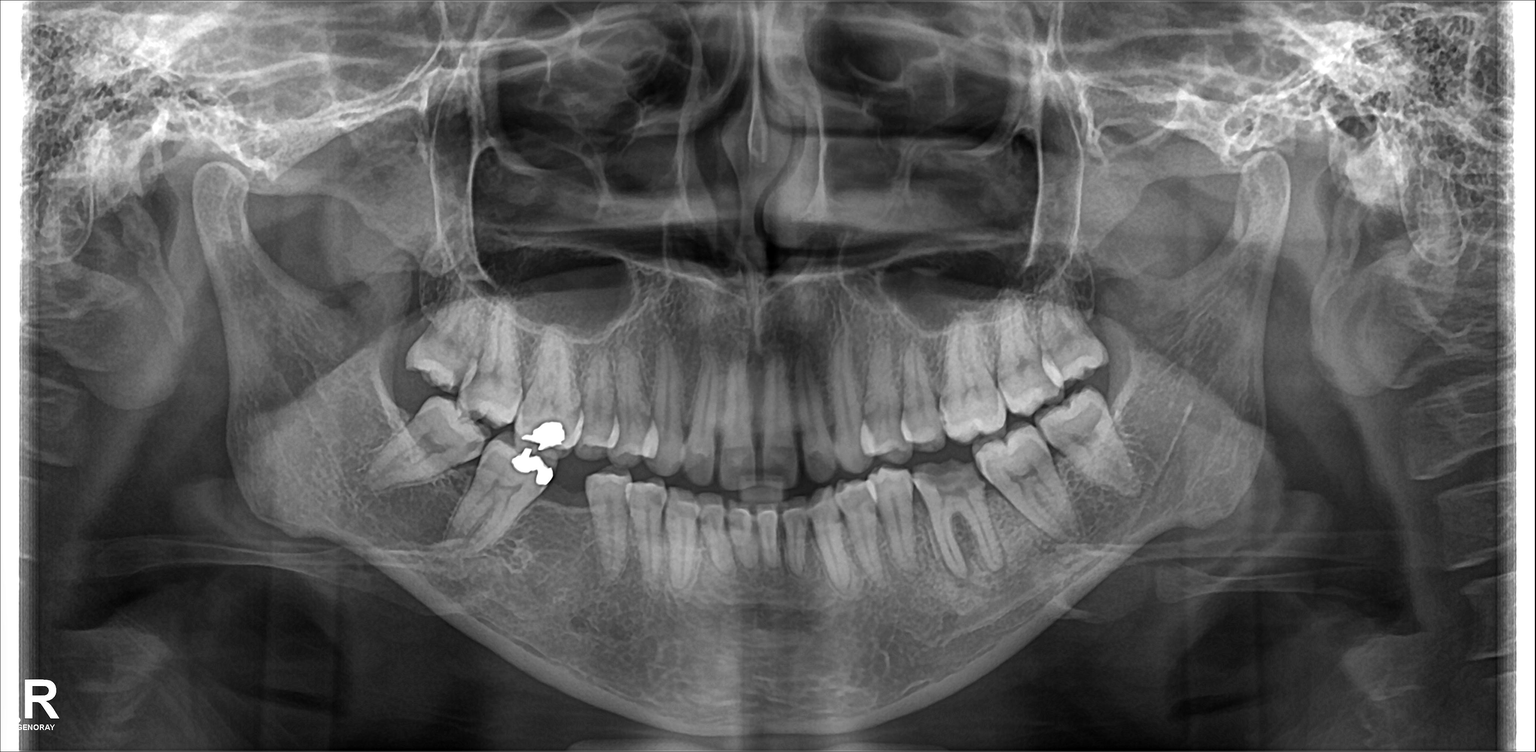Impacted Third Molar: (402, 404, 480, 477), (1065, 406, 1123, 496)
Missing Tooth: (553, 469, 585, 551)
